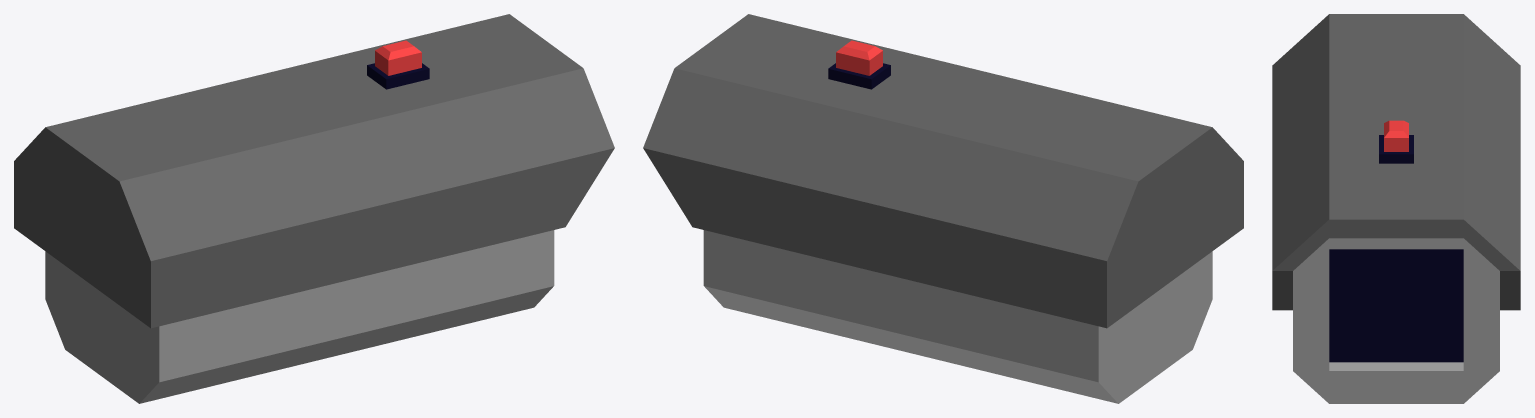
File: camera.fbx
3 views of the same model, side by side, from view 1: azimuth 30°, elevation 25°; view 2: azimuth 150°, elevation 25°; view 3: azimuth 270°, elevation 25° (orthographic). The views are drawn at different scales.
Parts seen in each view (by area): view 1: Cube; view 2: Cube; view 3: Cube.
Part boxes in pixels (bbox=[...]): Cube: bbox=[14, 14, 614, 403]; Cube: bbox=[643, 14, 1243, 403]; Cube: bbox=[1272, 14, 1520, 403].
Size of the model in its own units: 470 by 250 by 240.
